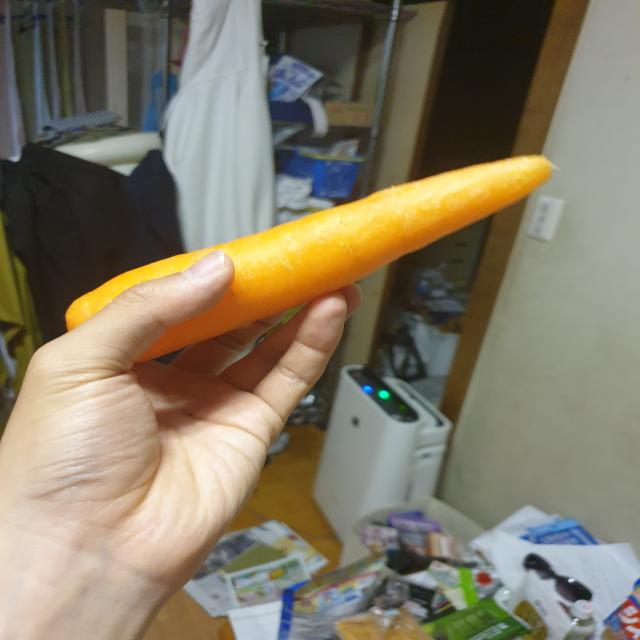Carrot: (58, 150, 566, 368)
